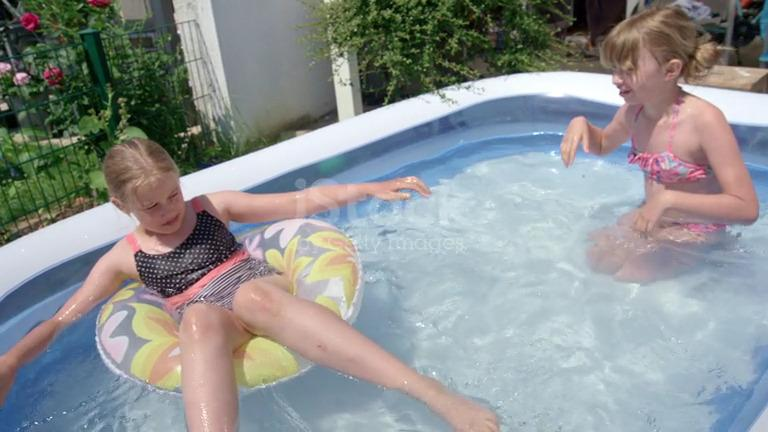Swimming: (9, 81, 562, 406), (536, 7, 768, 268)
